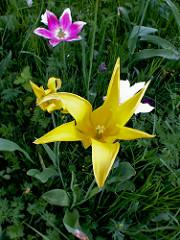tulip: (38, 56, 155, 180), (38, 8, 84, 46)
